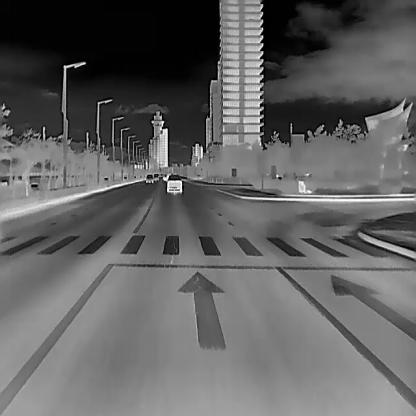car: (165, 173, 181, 192), (146, 174, 152, 183)
